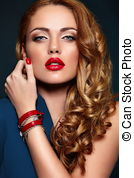face: (17, 1, 91, 107)
